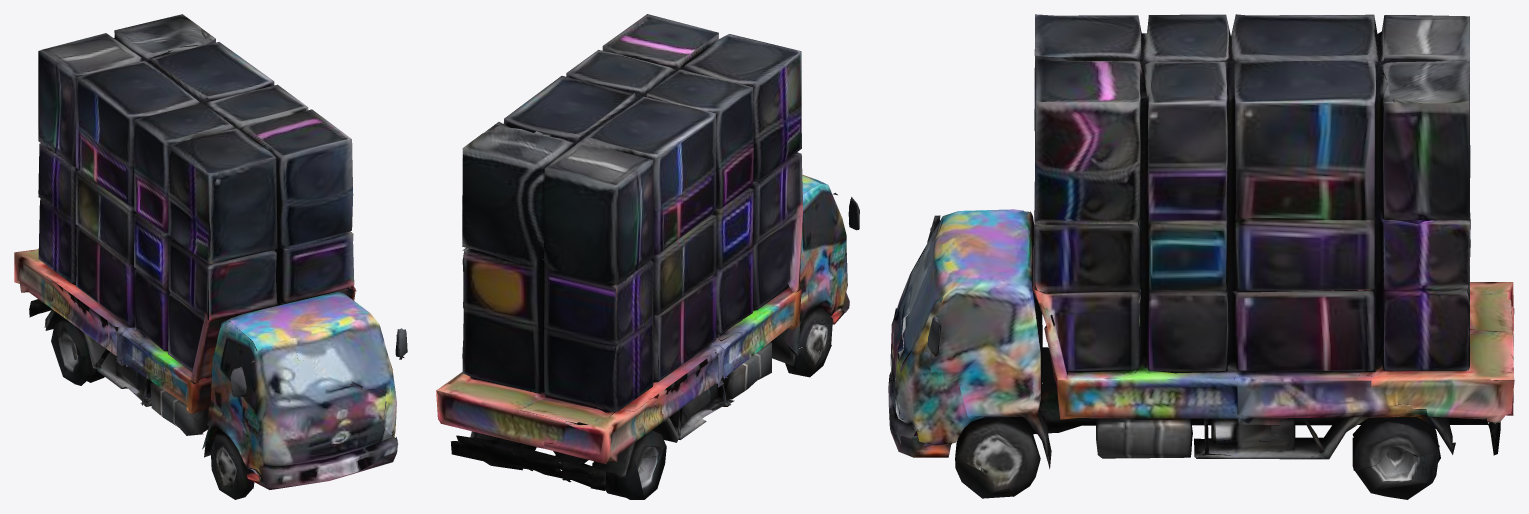
Rendered from sound-truck.glb.
3 renders of one model, left to right at view 1: azimuth 30°, elevation 25°; view 2: azimuth 150°, elevation 25°; view 3: azimuth 270°, elevation 25°, orthographic. The views are drawn at different scales.
Parts seen in each view (by area): view 1: model; view 2: model; view 3: model.
Boxes of the visible parts, box(x1,y1,x2,y2) form: model: box(14, 14, 407, 499); model: box(436, 14, 859, 499); model: box(888, 14, 1514, 499).
Bounding box in the file's own units: 0.5859 × 1 × 1.41.
Materials: 1 (1 with a texture image).
